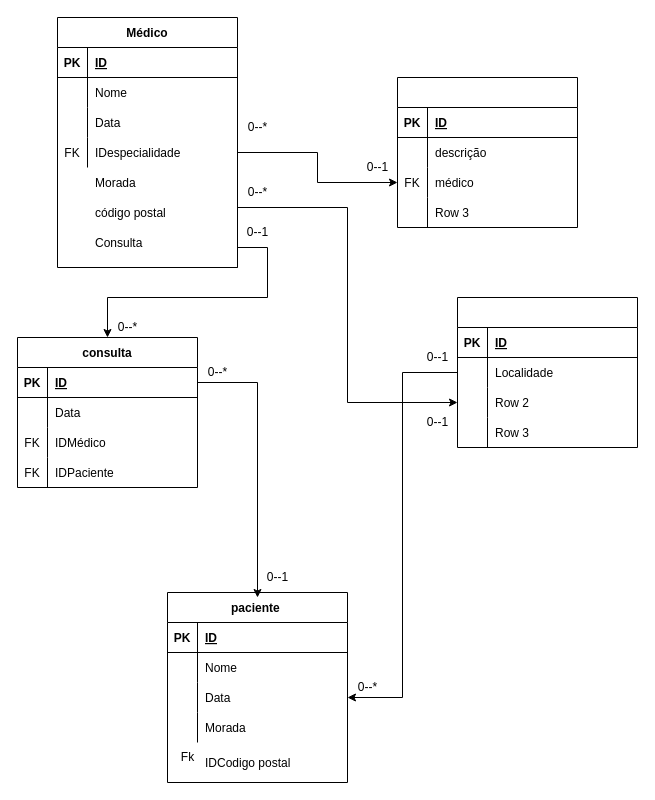
Image size: 655x800. Some labels were removed from this diagram. The box of each missing label's shape, as (x1, y1, x2, y2) in pixels:
Codigo postal: (456, 296, 638, 448)
Especialidade: (396, 76, 578, 228)
